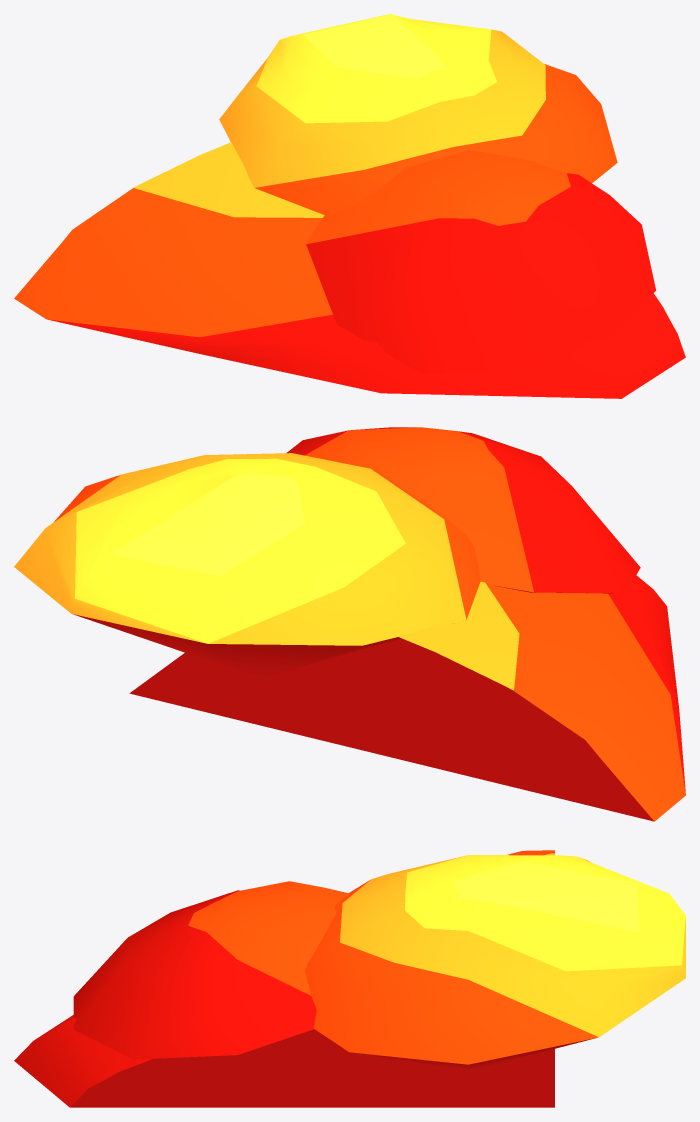
The model's file is shot_zflame_213.glb.
3 renders of one model, top to bottom at view 1: azimuth 30°, elevation 25°; view 2: azimuth 150°, elevation 25°; view 3: azimuth 270°, elevation 25°, orthographic. The views are drawn at different scales.
Visible parts, largest first — view 1: zflame_3_bed_b213, zflame_3_billow4_b213, zflame_3_billow2_b213; view 2: zflame_3_billow2_b213, zflame_3_bed_b213, zflame_3_billow4_b213; view 3: zflame_3_billow2_b213, zflame_3_billow4_b213, zflame_3_bed_b213.
Boxes of the visible parts, left/top/right/bottom form: zflame_3_bed_b213: left=14, top=142, right=685, bottom=398; zflame_3_billow4_b213: left=306, top=150, right=655, bottom=373; zflame_3_billow2_b213: left=219, top=14, right=617, bottom=215; zflame_3_billow2_b213: left=14, top=453, right=480, bottom=678; zflame_3_bed_b213: left=129, top=575, right=685, bottom=821; zflame_3_billow4_b213: left=286, top=427, right=640, bottom=593; zflame_3_billow2_b213: left=305, top=855, right=685, bottom=1070; zflame_3_billow4_b213: left=73, top=881, right=349, bottom=1059; zflame_3_bed_b213: left=14, top=850, right=554, bottom=1107.
Bounding box in the file's own units: 11.62 × 3.48 × 11.65.
